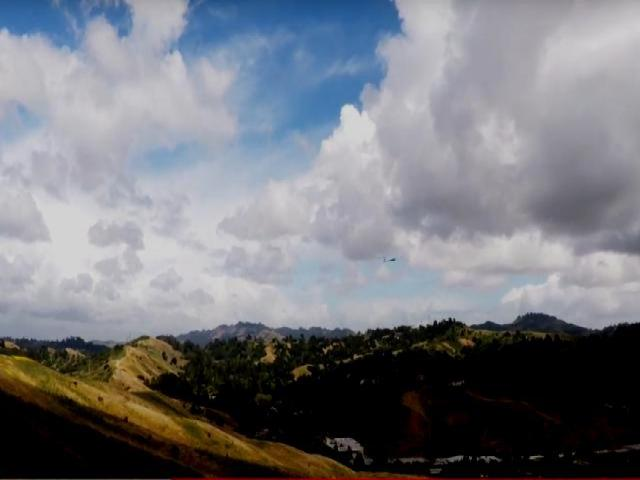iha: (378, 254, 406, 266)
